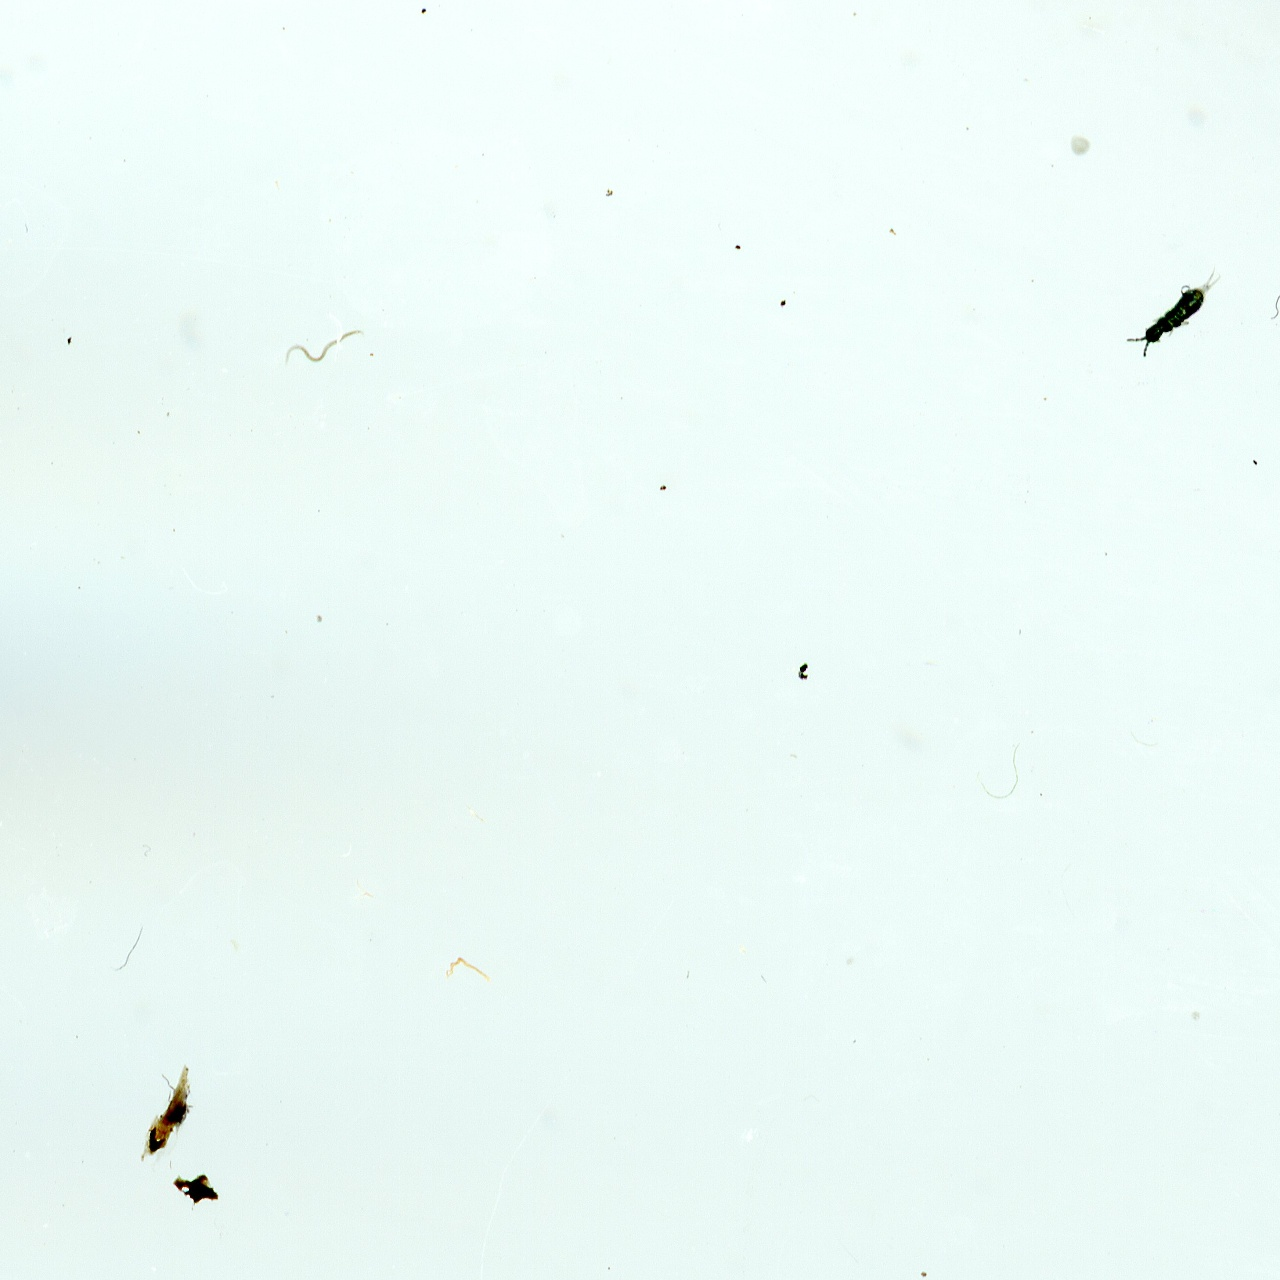arthropod: (1116, 245, 1233, 374)
